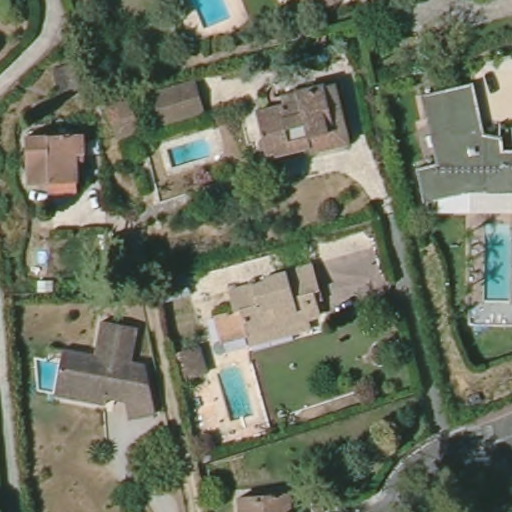pool: (476, 218, 512, 309), (213, 359, 257, 421), (184, 1, 235, 35), (161, 138, 216, 168), (33, 354, 62, 397)
